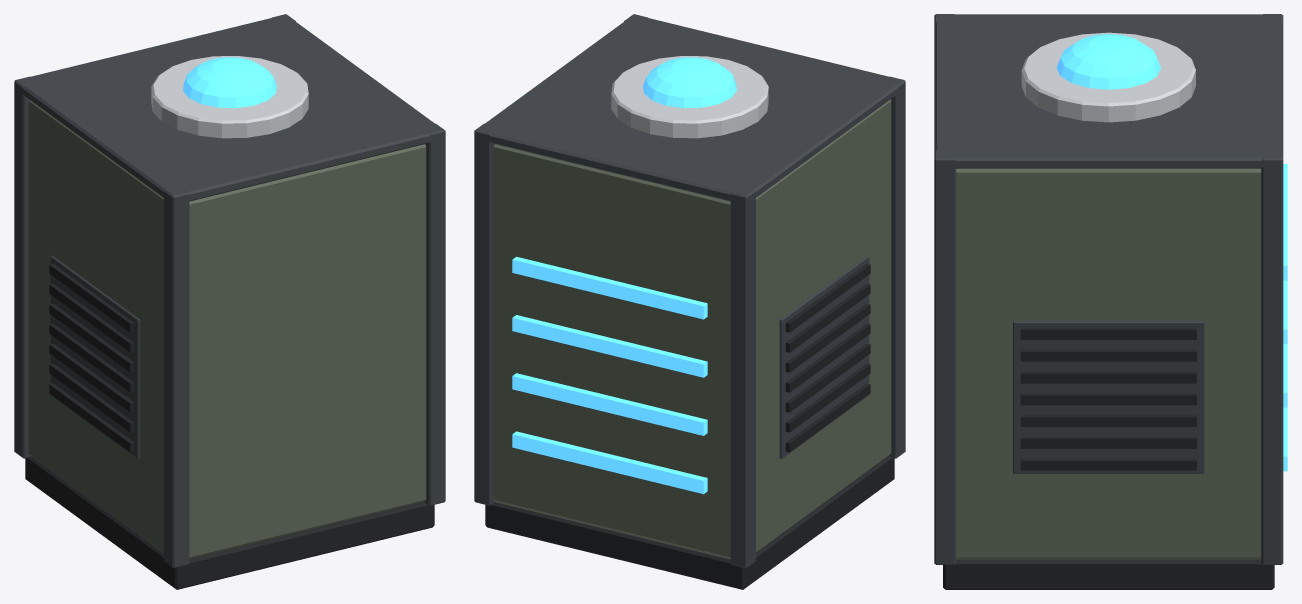
Rendered from shield_booster.glb.
3 views of the same model, side by side, from view 1: azimuth 30°, elevation 25°; view 2: azimuth 150°, elevation 25°; view 3: azimuth 270°, elevation 25° (orthographic). The views are drawn at different scales.
Visible parts, largest first — view 1: shield_booster; view 2: shield_booster; view 3: shield_booster.
Part boxes in pixels (x1=…): shield_booster: x1=14, y1=14, x2=445, y2=589; shield_booster: x1=474, y1=14, x2=905, y2=589; shield_booster: x1=934, y1=14, x2=1287, y2=589.
Bounding box in the file's own units: 0.8 × 1.2 × 0.8.
